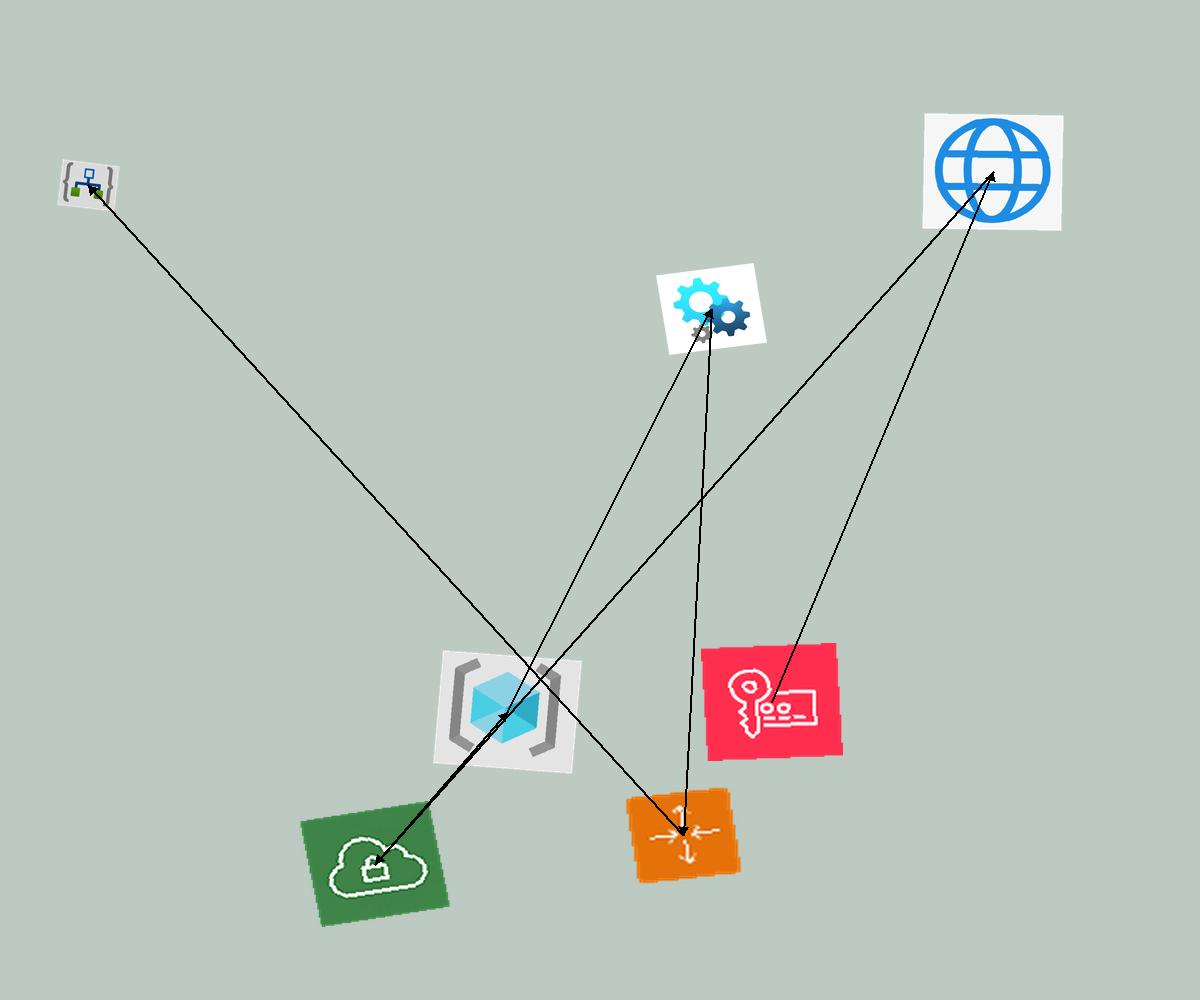AWS-Key-Management-Service: (701, 643, 843, 761)
AWS-Private_vpc: (299, 801, 451, 927)
AWS-Scaling-group: (624, 786, 743, 885)
Azure_api: (656, 263, 767, 355)
Azure_http: (922, 113, 1064, 231)
Azure_integration-204-Logic-Apps: (57, 159, 120, 212)
Azure_resource_group: (433, 650, 582, 774)
